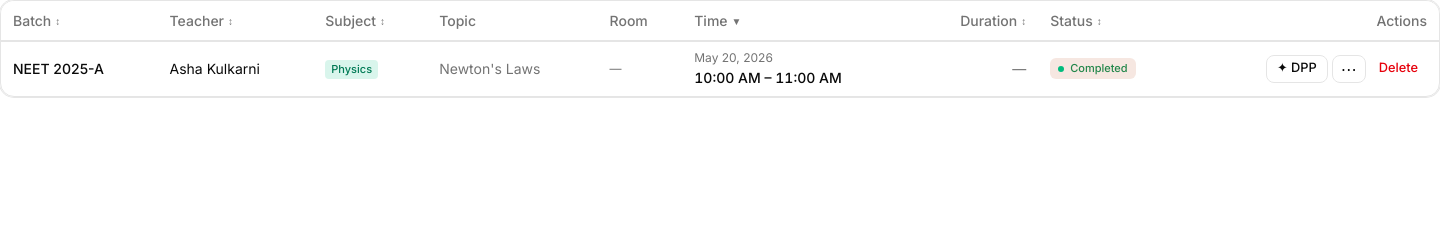
Test: LectureTable › completed: Generate DPP is the quick-action; no Start/Complete/Cancel in menu
Expected: the button "✦ DPP" is shown, 1266,54 -> 1328,82
Expected: the button with aria-label "delete lecture" is shown, 1370,54 -> 1427,82
Click the button named "more actions for lecture" at (1349, 68), box 1332,54 -> 1366,82
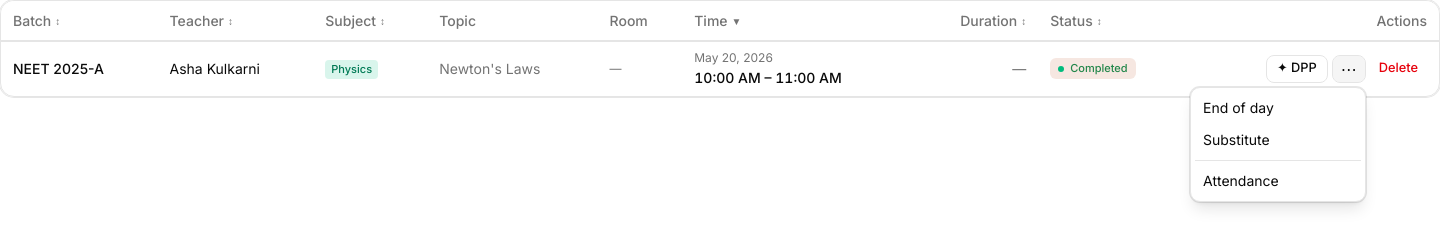
Expected: the menu is shown, 1190,87 -> 1366,202
